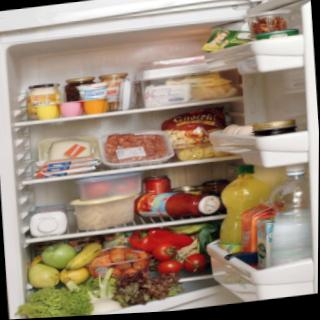Juice: (219, 160, 249, 256)
fruit: (27, 196, 71, 241), (23, 261, 59, 291), (41, 242, 73, 268)
